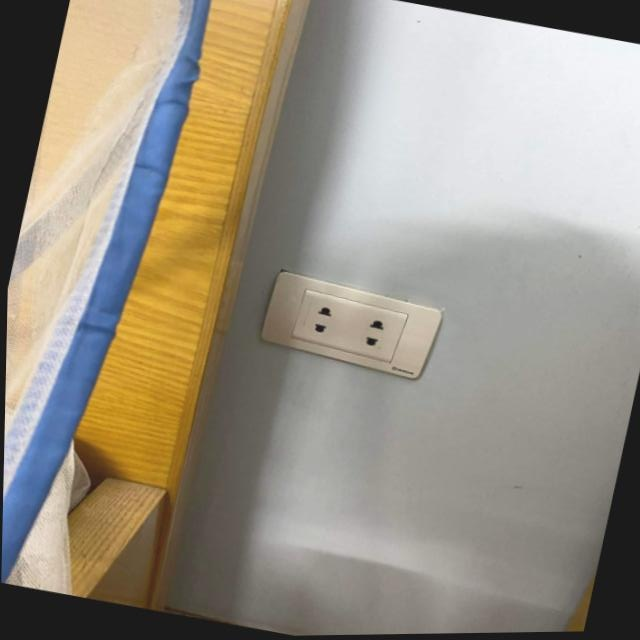outlet: (255, 267, 447, 386)
